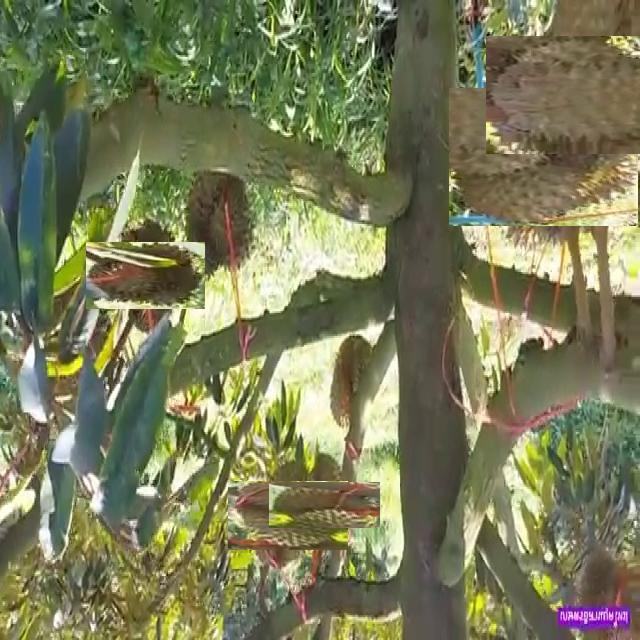durian: (462, 75, 626, 238), (503, 19, 640, 172), (180, 136, 257, 285), (240, 468, 336, 564), (99, 229, 193, 322), (285, 465, 363, 545), (329, 331, 381, 432)
